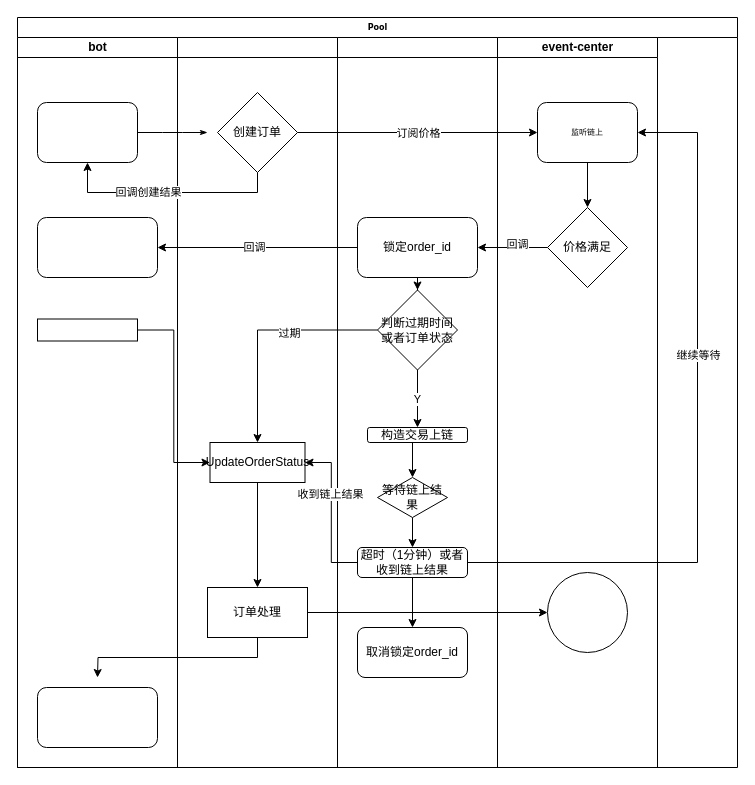
This 755x785 diagram has some shape labels left out. Here are the shapes that lost their labels. From the top down, the box of each, then its label:
(36, 102, 138, 162): 点击限价单
(36, 216, 158, 278): 收到价格满足条件
(36, 318, 138, 341): 取消订单
(176, 36, 338, 768): order-center
(336, 36, 498, 768): task-center
(546, 572, 628, 652): 取消订阅
(36, 686, 158, 748): 通知返回结果
